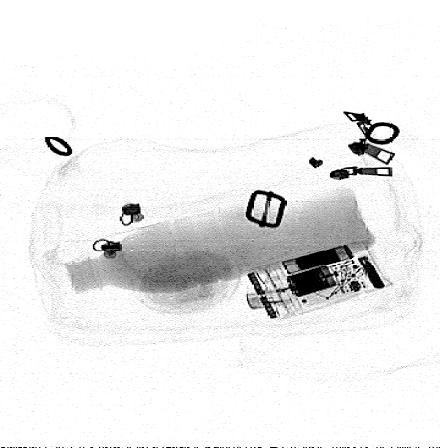Lighter: (245, 274, 358, 312)
